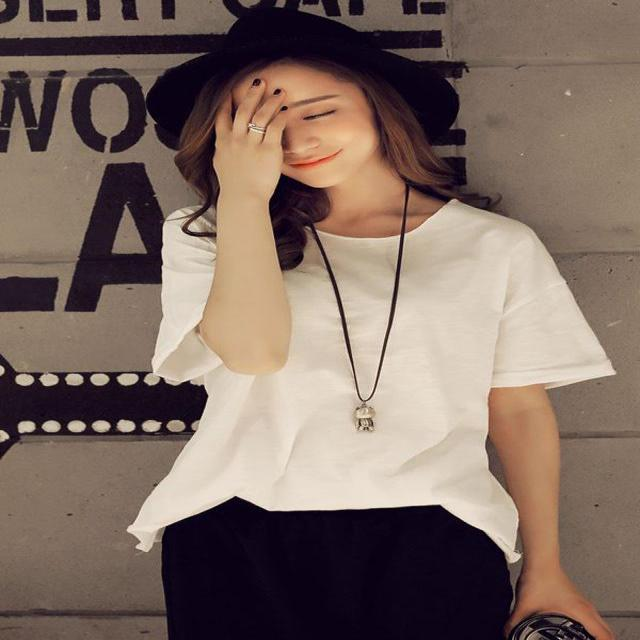short sleeve top: (137, 199, 614, 553)
skirt: (162, 482, 506, 637)
